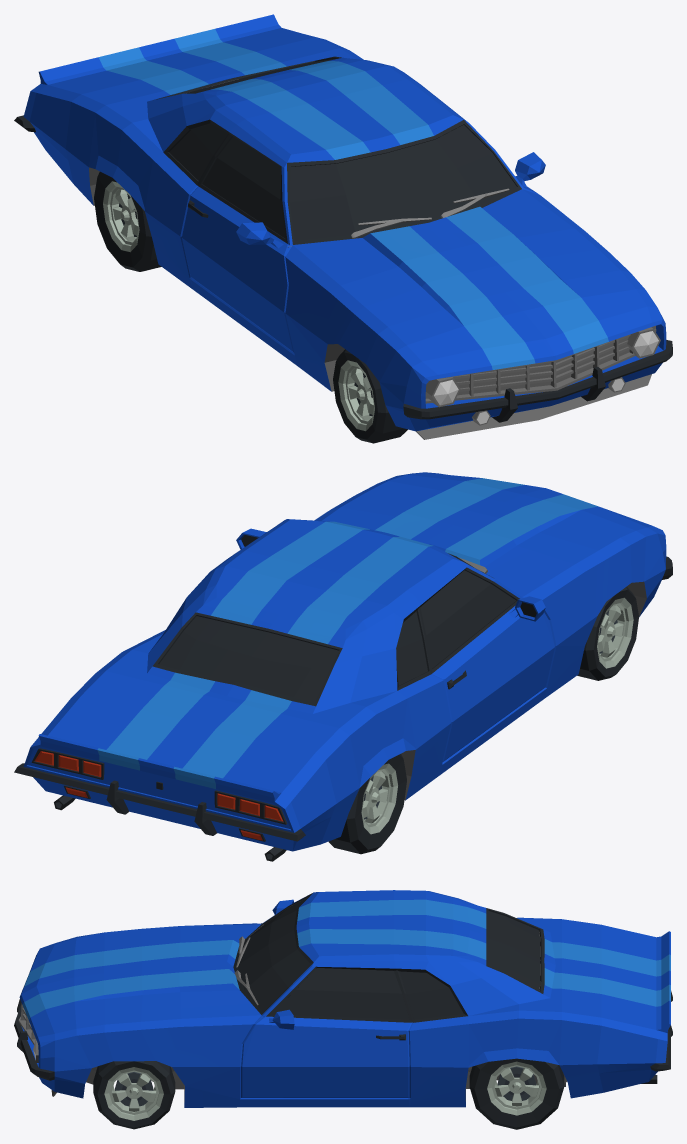
The model's file is Mus_Blue.fbx.
3 views of the same model, one above another, from view 1: azimuth 30°, elevation 25°; view 2: azimuth 150°, elevation 25°; view 3: azimuth 270°, elevation 25° (orthographic). The views are drawn at different scales.
Parts seen in each view (by area): view 1: SM_Veh_Car_Muscle_01, SM_Veh_Car_Muscle_Wheel_rr, SM_Veh_Car_Muscle_Wheel_fr; view 2: SM_Veh_Car_Muscle_01, SM_Veh_Car_Muscle_Wheel_rr, SM_Veh_Car_Muscle_Wheel_fr; view 3: SM_Veh_Car_Muscle_01, SM_Veh_Car_Muscle_Wheel_rl, SM_Veh_Car_Muscle_Wheel_fl.
Boxes of the visible parts, x1=… form: SM_Veh_Car_Muscle_01: x1=14, y1=14, x2=672, y2=439; SM_Veh_Car_Muscle_Wheel_rr: x1=94, y1=171, x2=161, y2=271; SM_Veh_Car_Muscle_Wheel_fr: x1=333, y1=349, x2=407, y2=443; SM_Veh_Car_Muscle_01: x1=14, y1=472, x2=672, y2=861; SM_Veh_Car_Muscle_Wheel_rr: x1=328, y1=754, x2=406, y2=854; SM_Veh_Car_Muscle_Wheel_fr: x1=577, y1=586, x2=638, y2=680; SM_Veh_Car_Muscle_01: x1=14, y1=890, x2=672, y2=1107; SM_Veh_Car_Muscle_Wheel_rl: x1=469, y1=1058, x2=564, y2=1129; SM_Veh_Car_Muscle_Wheel_fl: x1=93, y1=1061, x2=175, y2=1129.
Bounding box in the file's own units: 2.21 × 1.36 × 5.13.
